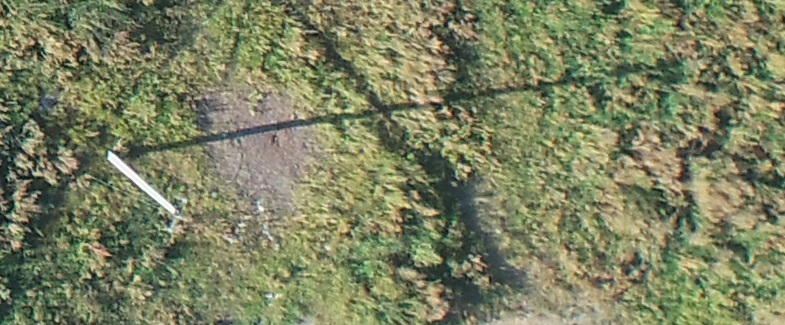opora: (106, 131, 197, 235)
